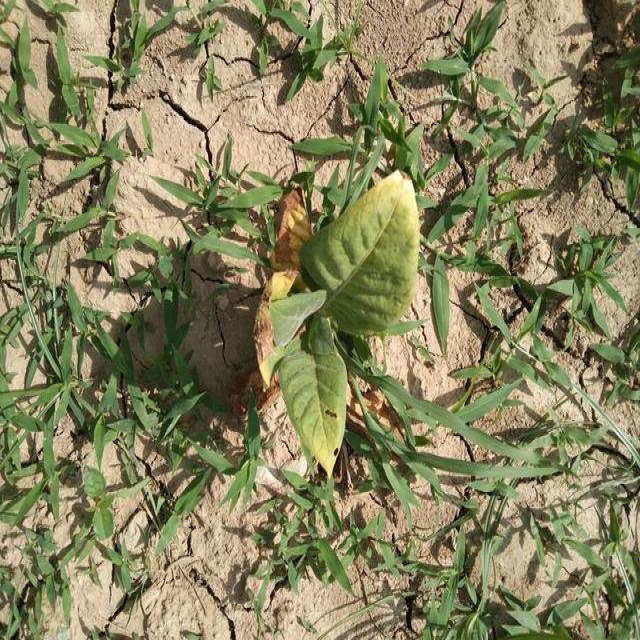crop: (252, 146, 431, 535)
